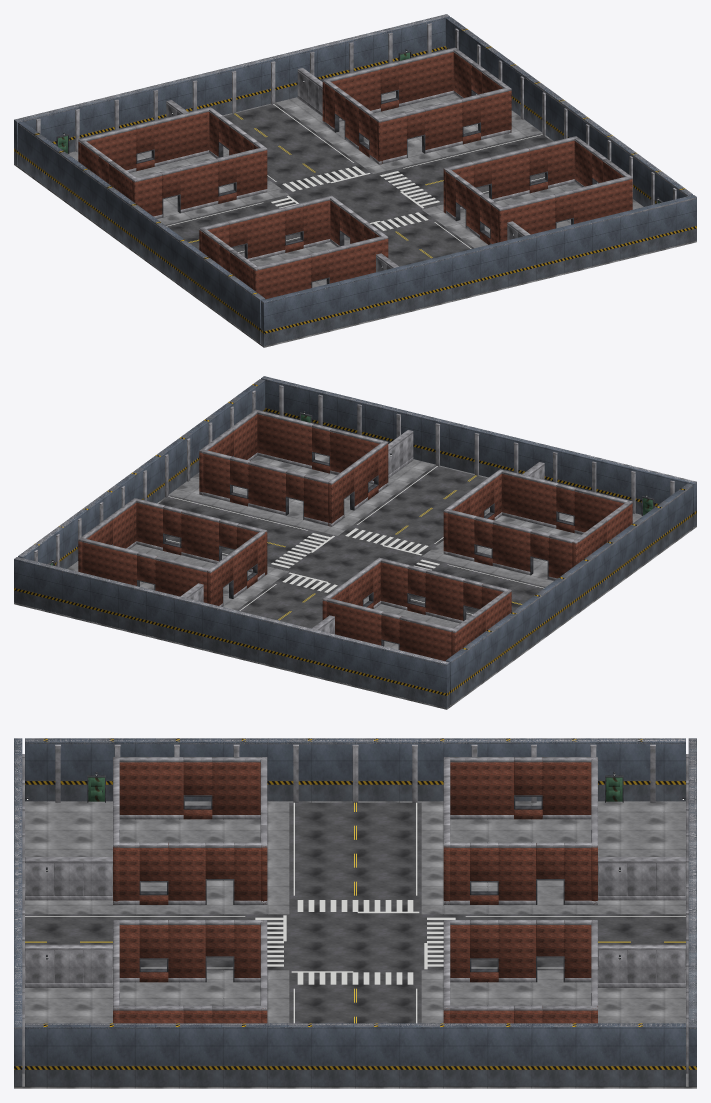
The model's file is map_crossroads.glb.
3 renders of one model, top to bottom at view 1: azimuth 30°, elevation 25°; view 2: azimuth 150°, elevation 25°; view 3: azimuth 270°, elevation 25°, orthographic. The views are drawn at different scales.
Visible parts, largest first — view 1: map; view 2: map; view 3: map.
Part boxes in pixels (x1,y1,x2,y2): map: (14,14,696,347); map: (14,376,696,709); map: (14,738,696,1088).
Size of the model in its own units: 62 by 6.2 by 62.
10 materials, 7 textured.
